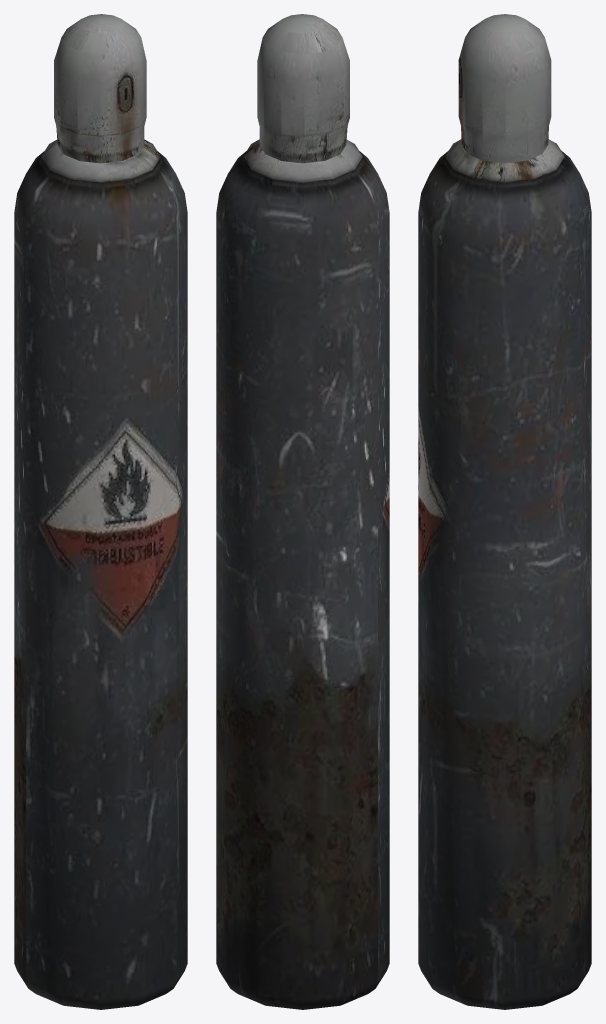
File: canister01a.glb
3 views of the same model, side by side, from view 1: azimuth 30°, elevation 25°; view 2: azimuth 150°, elevation 25°; view 3: azimuth 270°, elevation 25° (orthographic).
Parts seen in each view (by area): view 1: 0_canister01a; view 2: 0_canister01a; view 3: 0_canister01a.
Boxes of the visible parts, x1,y1,x2,y2 form: 0_canister01a: [14, 14, 187, 1009]; 0_canister01a: [216, 14, 389, 1009]; 0_canister01a: [418, 14, 591, 1009].
Size of the model in its own units: 0.244 by 1.49 by 0.244.
1 material, 1 textured.
